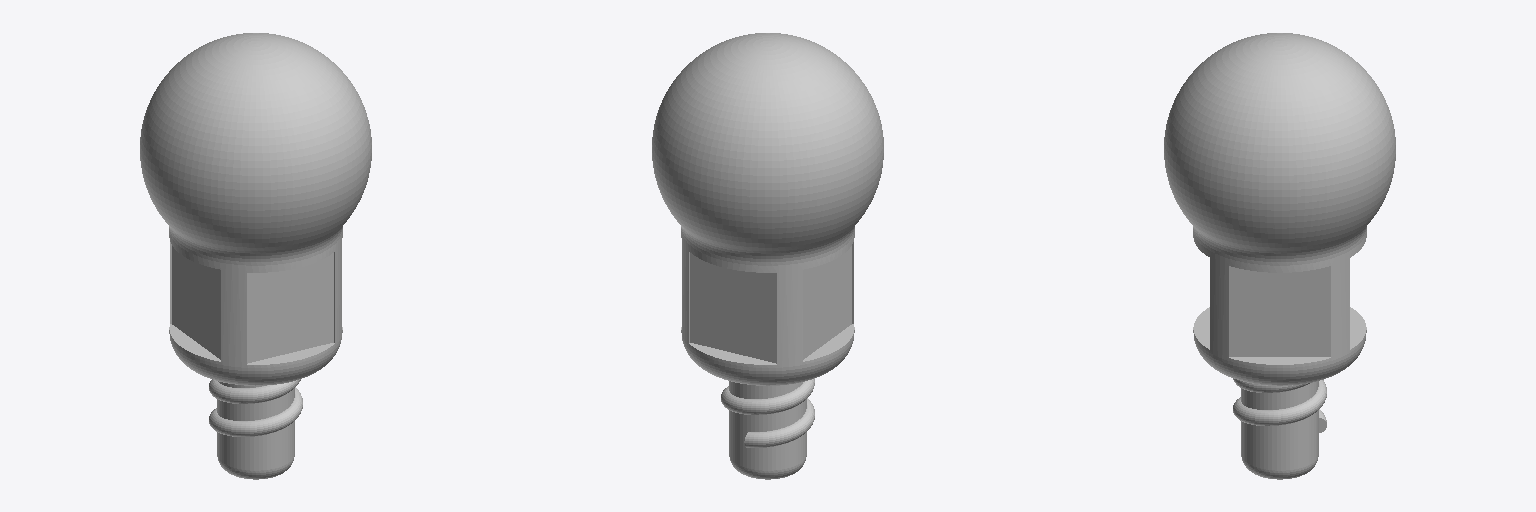
File: lamp_bulb.obj
3 views of the same model, side by side, from view 1: azimuth 30°, elevation 25°; view 2: azimuth 150°, elevation 25°; view 3: azimuth 270°, elevation 25° (orthographic).
Parts seen in each view (by area): view 1: lamp_bulb_v13, lamp_bulb_v13.003, lamp_bulb_v13.004; view 2: lamp_bulb_v13, lamp_bulb_v13.001, lamp_bulb_v13.004; view 3: lamp_bulb_v13, lamp_bulb_v13.002.
Boxes of the visible parts, x1,y1,x2,y2 form: lamp_bulb_v13: [140, 33, 371, 479]; lamp_bulb_v13.003: [247, 253, 333, 363]; lamp_bulb_v13.004: [172, 246, 220, 359]; lamp_bulb_v13: [652, 33, 883, 479]; lamp_bulb_v13.001: [690, 253, 776, 363]; lamp_bulb_v13.004: [803, 246, 851, 359]; lamp_bulb_v13: [1164, 33, 1395, 479]; lamp_bulb_v13.002: [1229, 266, 1330, 356].
Bounding box in the file's own units: 0.06 × 0.121 × 0.06.